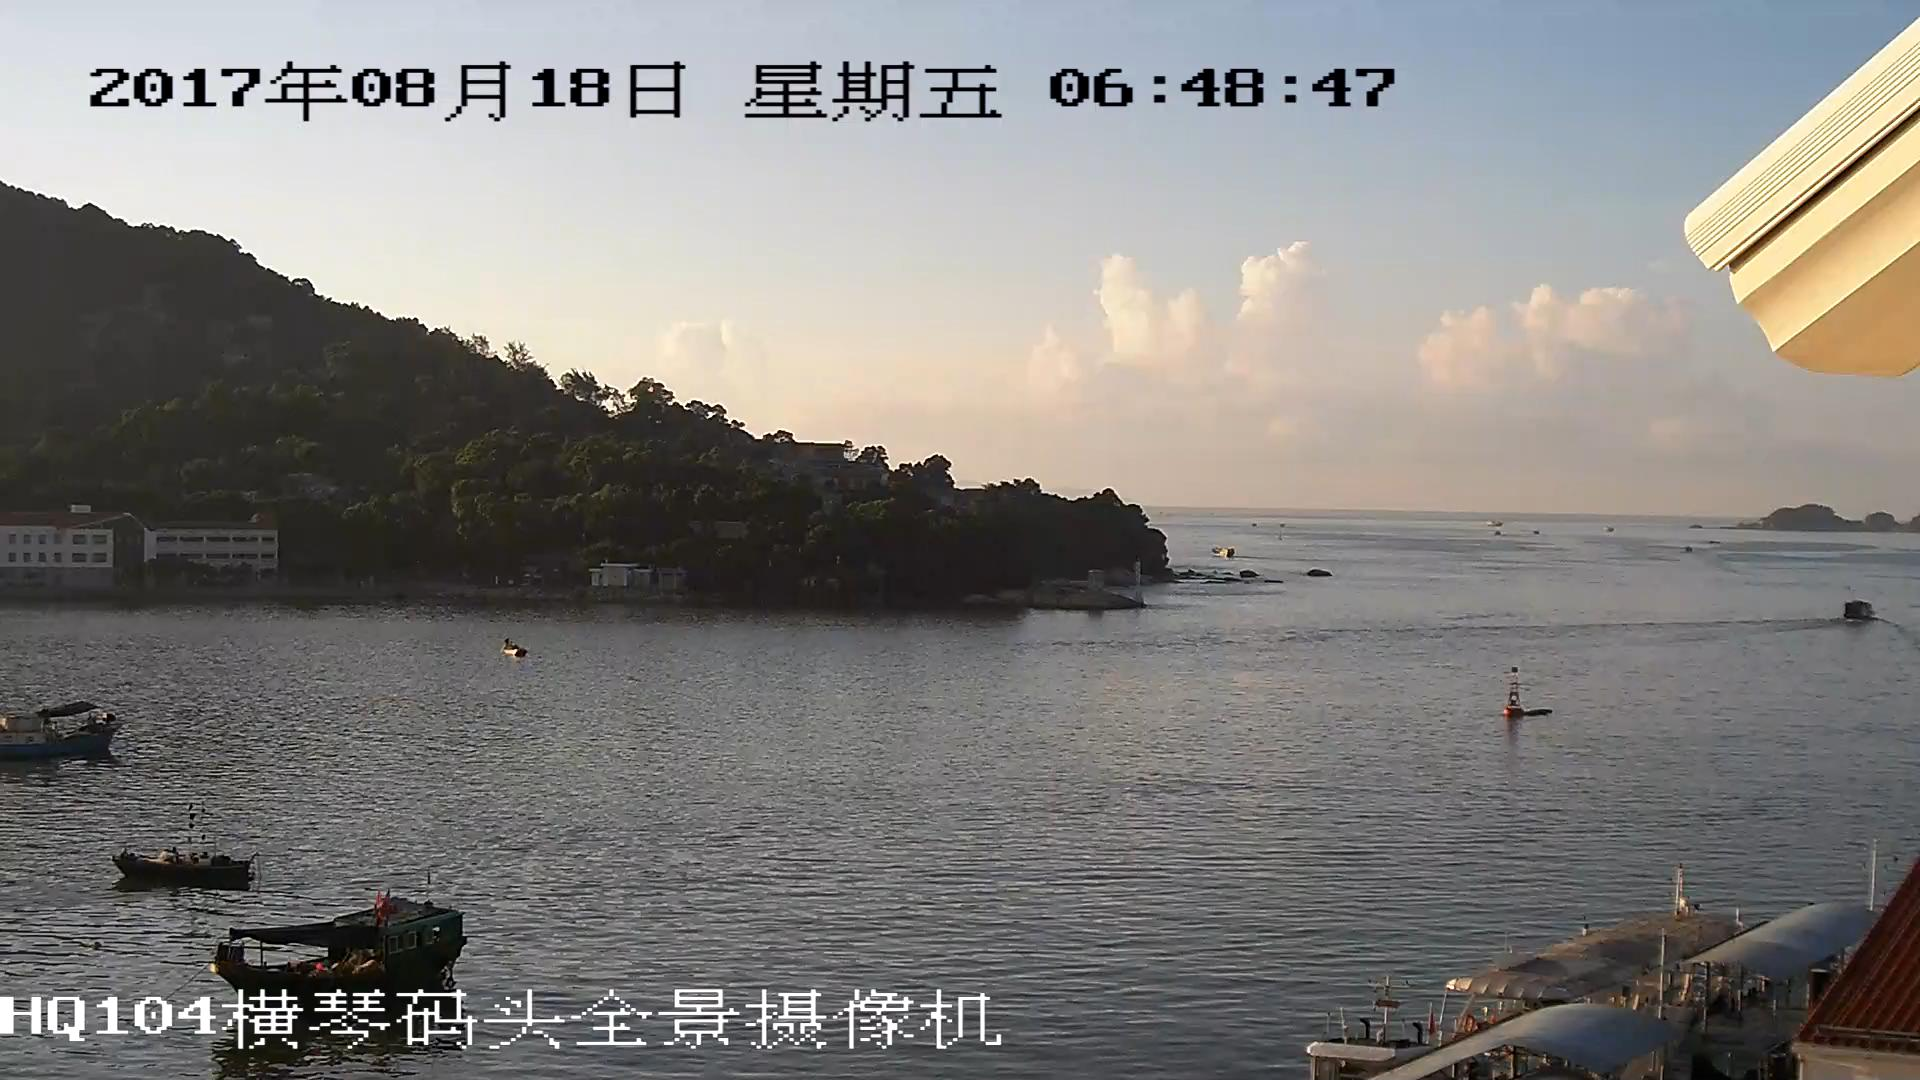fishing boat: (214, 910, 459, 983), (109, 842, 259, 890), (1, 710, 123, 756)
